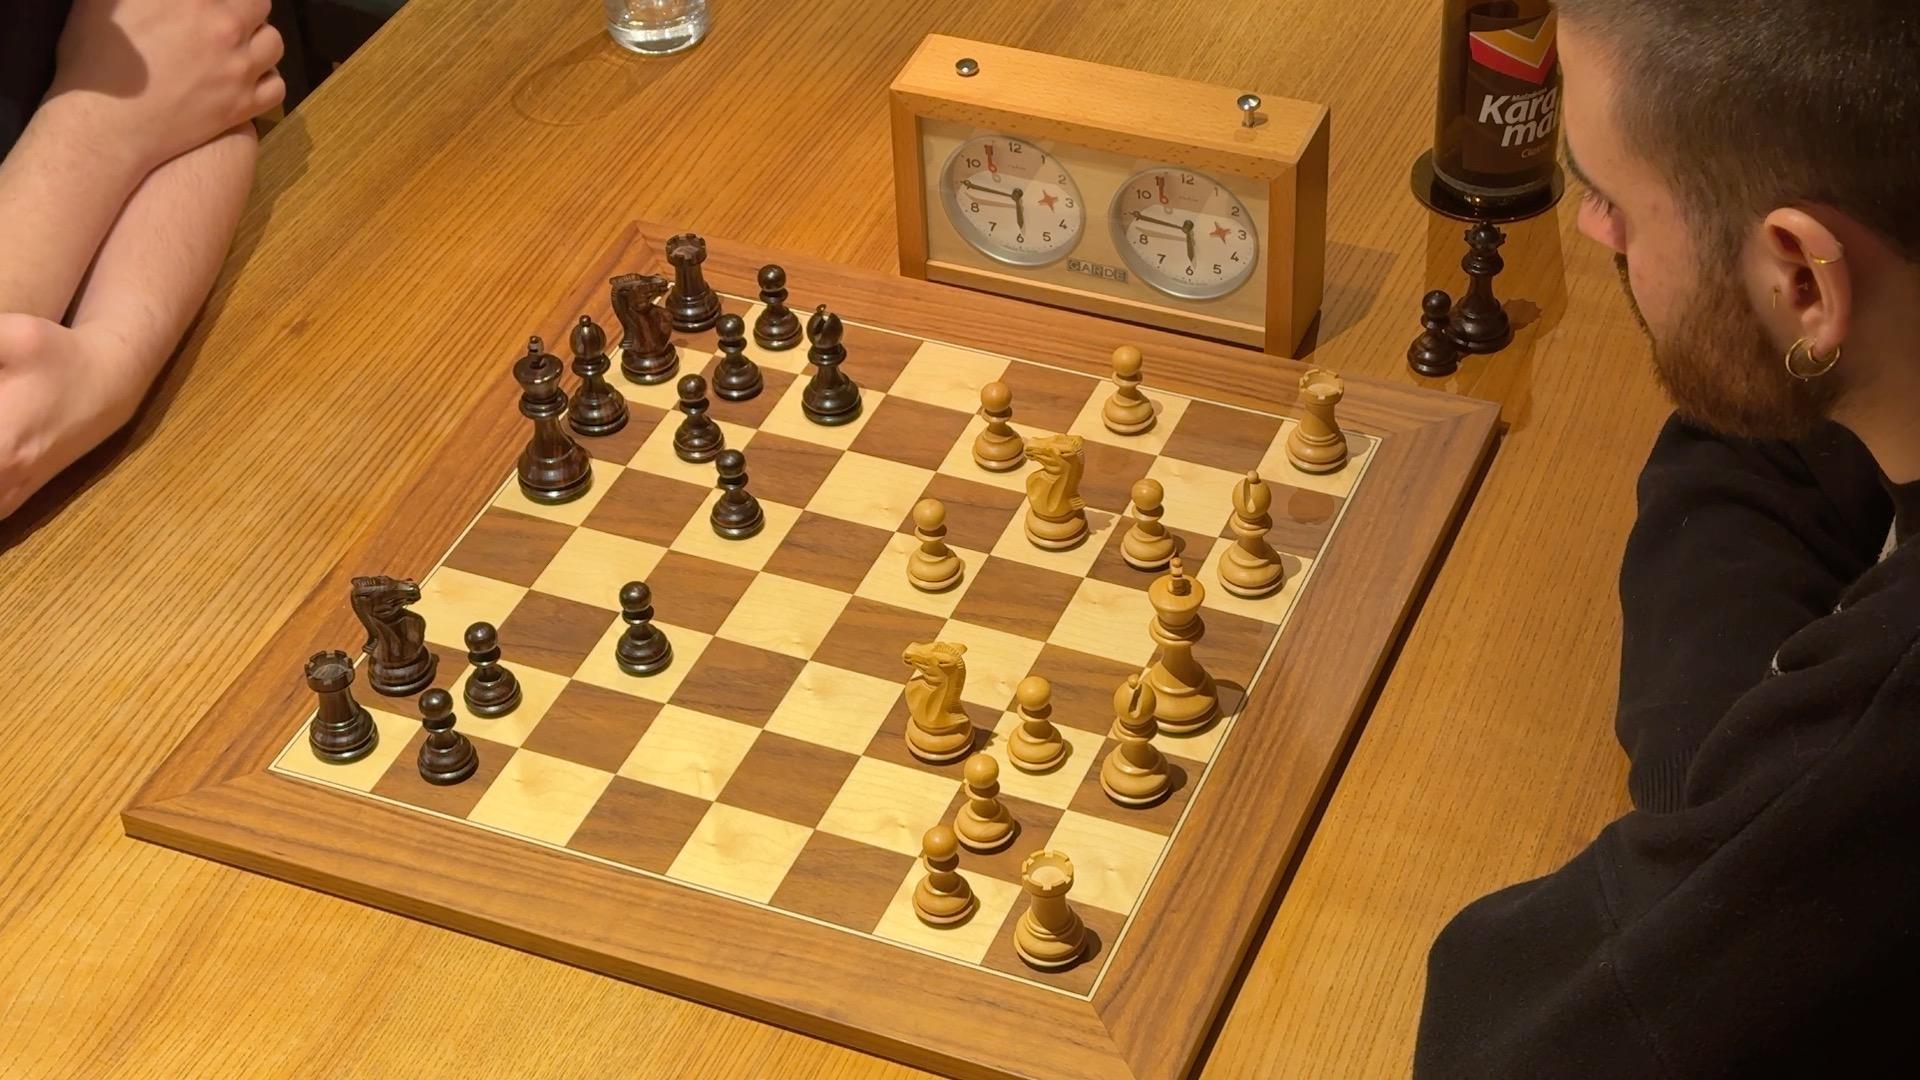Black Bishop: (790, 294, 872, 431), (563, 309, 630, 443)
Black King: (508, 330, 600, 509)
Black Knight: (344, 568, 443, 703), (605, 266, 686, 389)
Black Pawn: (414, 683, 484, 793), (460, 618, 529, 723), (612, 576, 678, 680), (705, 442, 769, 543), (671, 369, 727, 469), (708, 310, 766, 404), (752, 261, 804, 355)
Black Rook: (302, 646, 381, 770), (659, 229, 725, 335)
White Bishop: (1097, 673, 1184, 814), (1216, 465, 1292, 604)
White King: (1126, 550, 1232, 741)
White Knight: (895, 629, 981, 778), (1014, 430, 1095, 559)
White Pawn: (907, 819, 982, 936), (951, 748, 1021, 858), (1004, 670, 1071, 781), (899, 500, 971, 603), (1117, 475, 1179, 578), (967, 375, 1030, 475), (1098, 344, 1159, 442)
White Rook: (1011, 845, 1095, 980), (1283, 363, 1354, 480)
